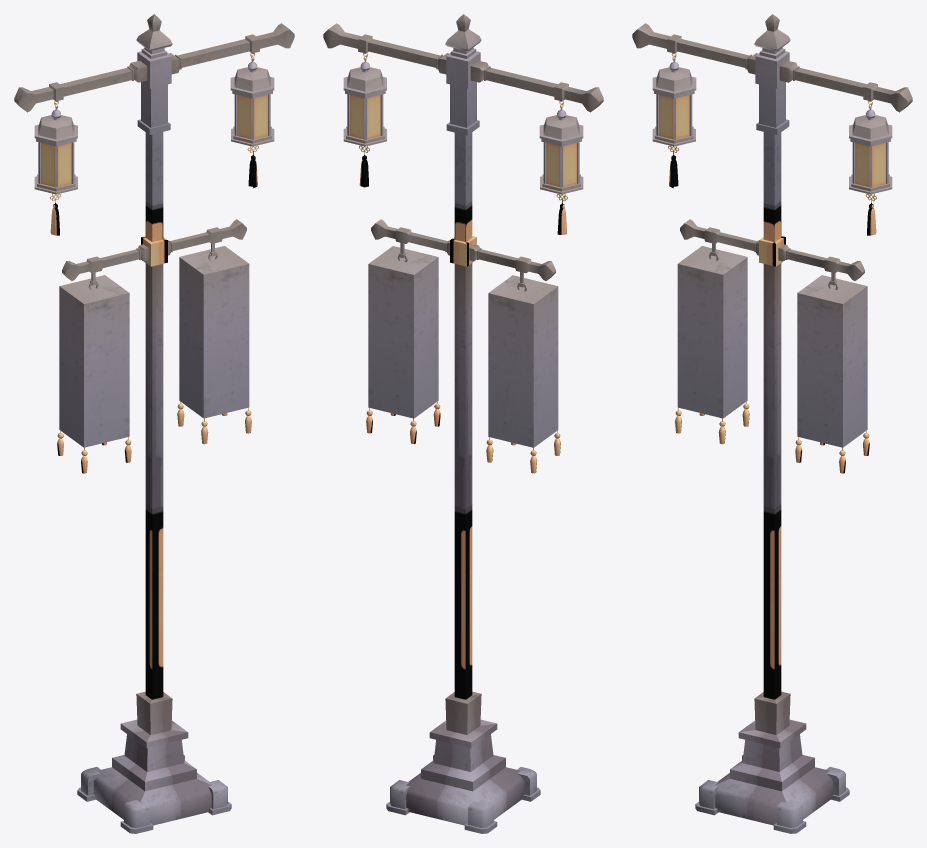
Rendered from street lamp2.fbx.
3 views of the same model, side by side, from view 1: azimuth 30°, elevation 25°; view 2: azimuth 150°, elevation 25°; view 3: azimuth 330°, elevation 25° (orthographic).
Visible parts, largest first — view 1: Object359, Object360; view 2: Object359, Object360; view 3: Object359, Object360.
Boxes of the visible parts, x1,y1,x2,y2 form: Object359: [14, 14, 294, 833]; Object360: [41, 95, 267, 186]; Object359: [323, 14, 603, 833]; Object360: [350, 95, 576, 186]; Object359: [632, 14, 912, 833]; Object360: [659, 95, 885, 186].
Size of the model in its own units: 75.22 by 206 by 26.85.
1 material, 1 textured.
